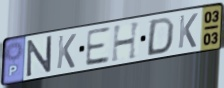D: (145, 16, 177, 58)
E: (84, 25, 112, 68)
H: (110, 19, 143, 64)
K: (55, 32, 78, 71), (177, 12, 199, 51)
N: (26, 34, 53, 79)
